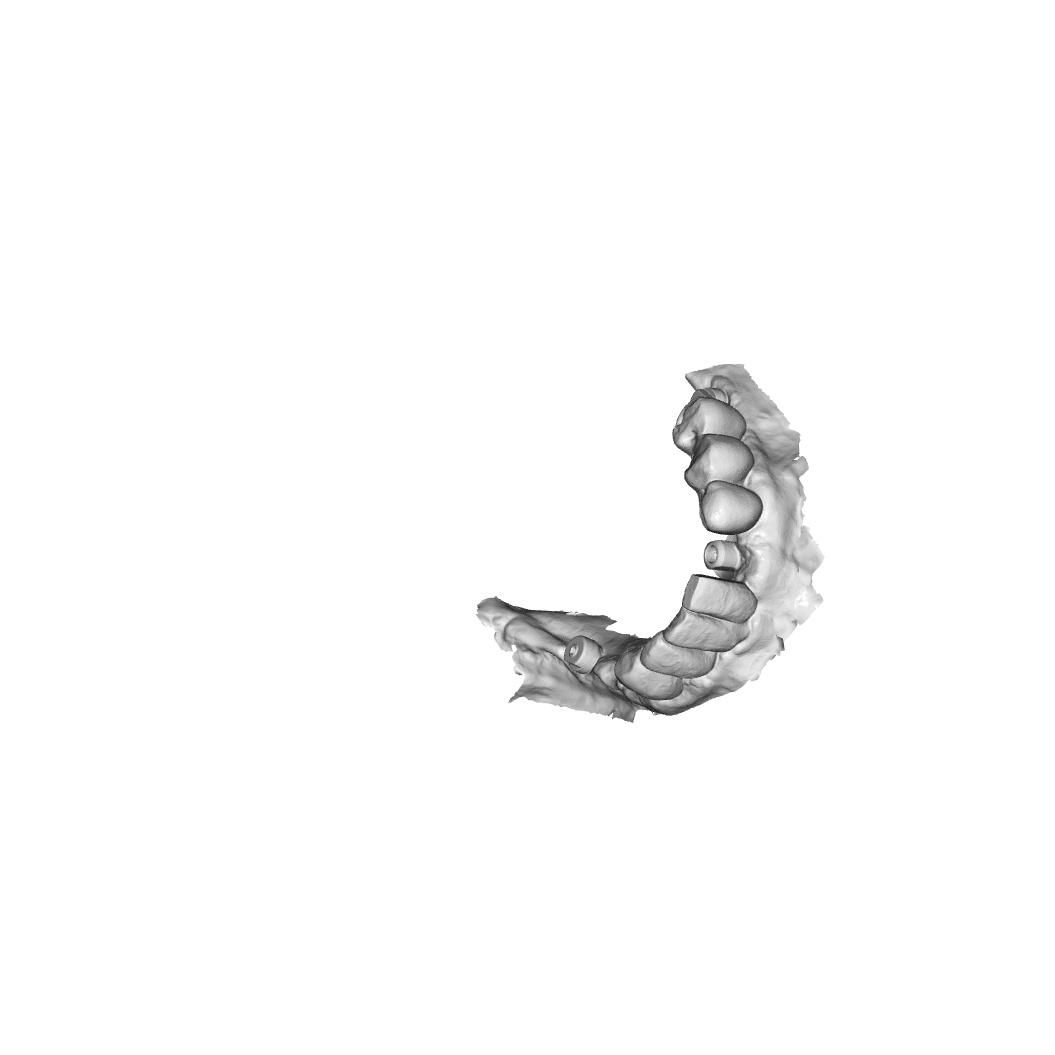implant: (695, 535, 754, 577), (558, 633, 605, 679), (692, 381, 736, 406)
incisor: (677, 568, 762, 622), (657, 605, 754, 651), (631, 632, 723, 677), (601, 656, 687, 699)
molar: (666, 395, 749, 451)
premolar: (681, 435, 760, 485), (689, 482, 765, 533)
